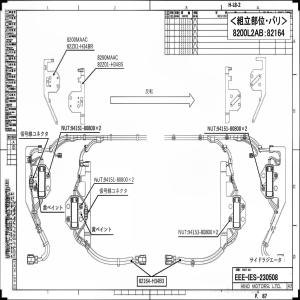PartNumber: (66, 42, 94, 50), (97, 60, 124, 68), (103, 175, 128, 183), (217, 125, 241, 133), (188, 228, 212, 236), (70, 125, 95, 131)
